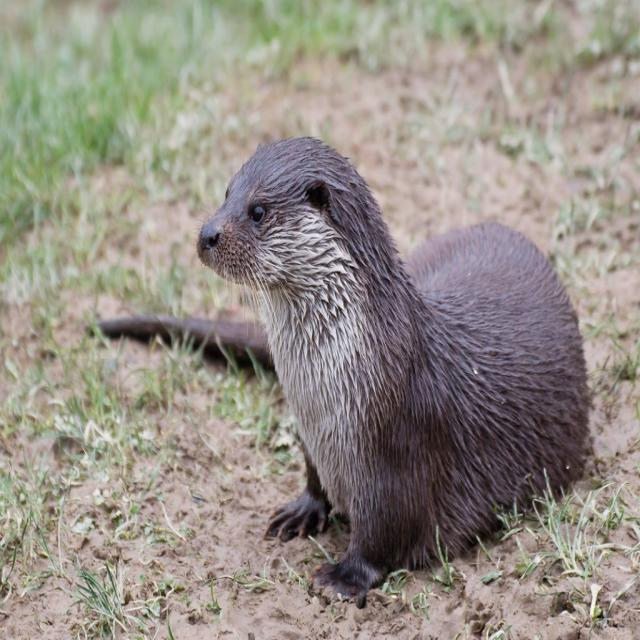otter: (199, 137, 590, 598)
